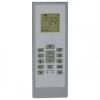remote control: (31, 1, 69, 99)
